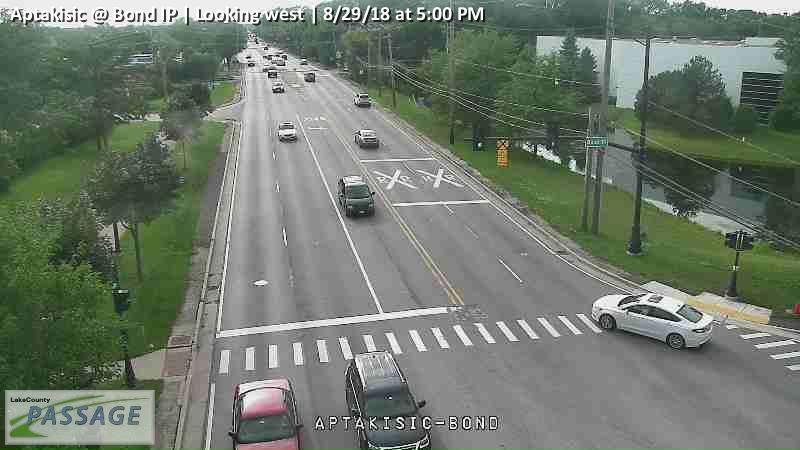SUV: (344, 351, 432, 450), (338, 175, 376, 218), (353, 91, 371, 107), (303, 71, 315, 82), (271, 82, 284, 92), (268, 70, 277, 79)
Sedan: (591, 294, 714, 349), (228, 377, 304, 450), (354, 129, 379, 149), (278, 122, 296, 142)
